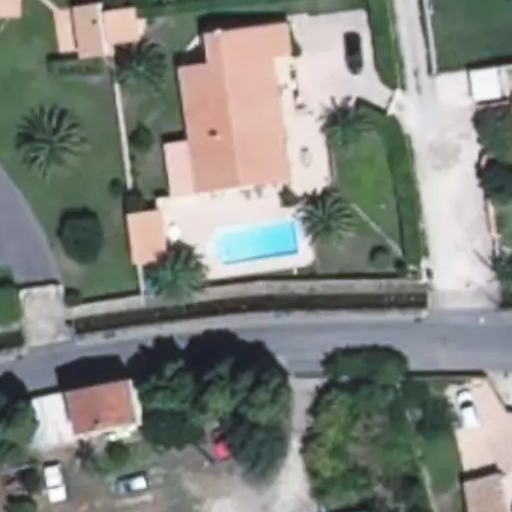pool: (207, 231, 301, 253)
